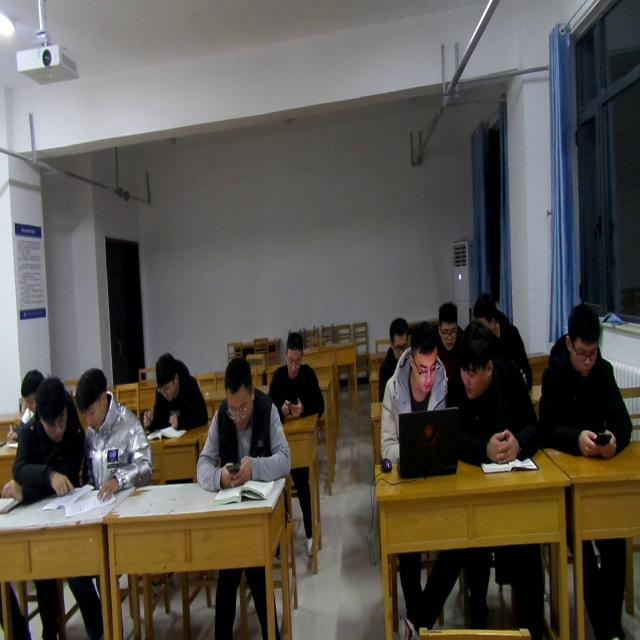bow: (143, 353, 209, 429)
down: (561, 300, 607, 377), (219, 356, 263, 434), (408, 317, 441, 393), (72, 370, 109, 434), (37, 379, 71, 447), (150, 348, 182, 401), (433, 297, 461, 350), (280, 325, 306, 380), (20, 372, 44, 415), (388, 316, 408, 360)
sit: (537, 304, 634, 460), (443, 318, 543, 465), (196, 357, 292, 494), (3, 374, 87, 506), (73, 367, 154, 502), (380, 322, 449, 462), (472, 294, 535, 389), (268, 330, 323, 421), (8, 368, 46, 444), (434, 303, 462, 406), (378, 317, 409, 402)
